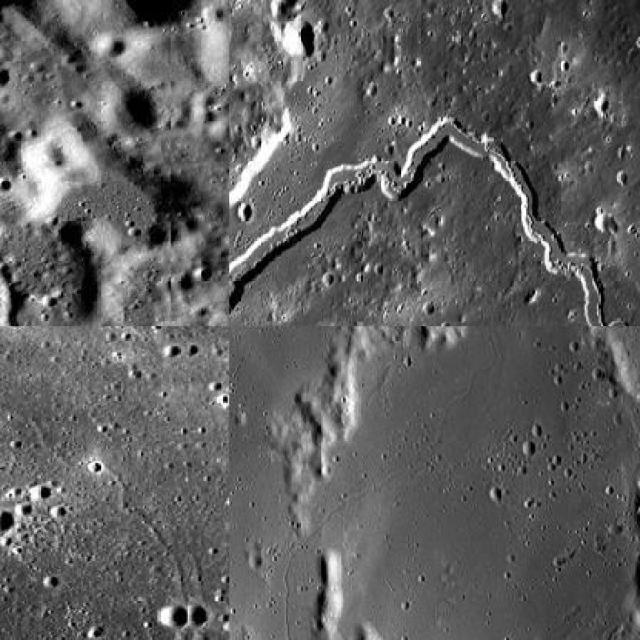rille: (230, 113, 638, 324), (281, 326, 497, 639), (0, 326, 188, 606), (0, 0, 126, 325)
